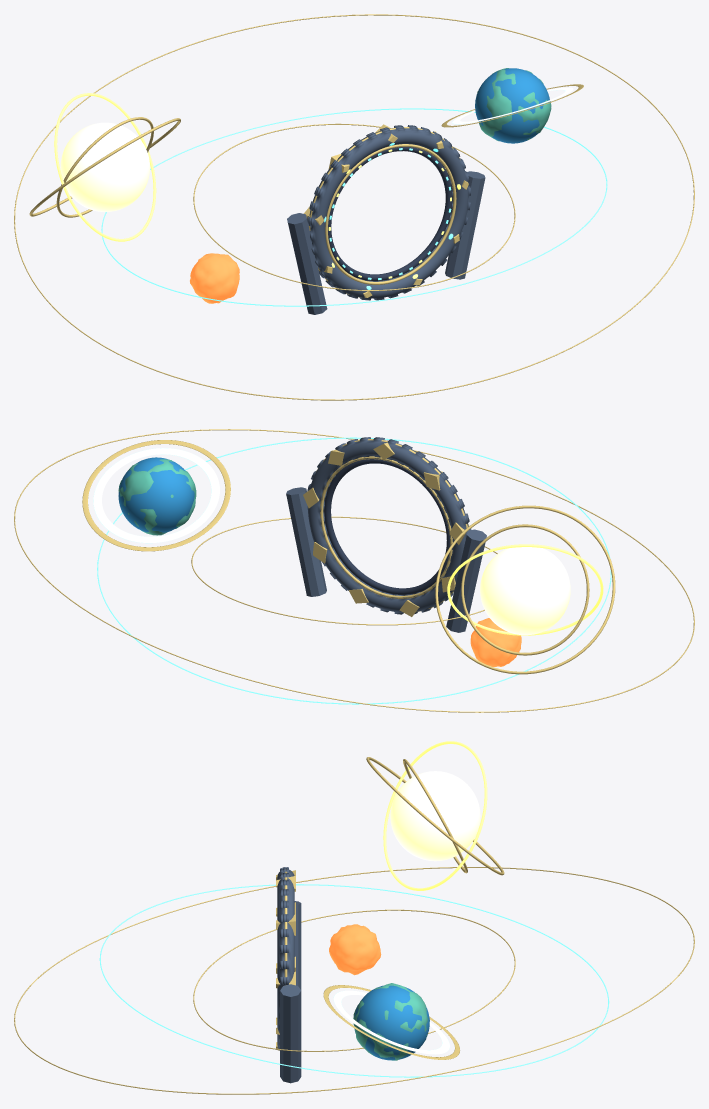
The model's file is stargate_odyssey.glb.
3 views of the same model, one above another, from view 1: azimuth 30°, elevation 25°; view 2: azimuth 150°, elevation 25°; view 3: azimuth 270°, elevation 25° (orthographic).
Visible parts, largest first — view 1: Stargate_OuterHull, Helios_Star_Core, Astrolabe_Ring_2, Planet_Thalassa, Stargate_InnerRing, Stargate_Gantry_0, Planet_Pyros, Planet_Thalassa_Continents, Astrolabe_Ring_1, Stargate_Gantry_1, Stargate_GoldTrim_1, Dyson_Ring_1 (+3 smaller); view 2: Stargate_OuterHull, Helios_Star_Core, Planet_Thalassa, Thalassa_Ring_0, Astrolabe_Ring_2, Stargate_InnerRing, Thalassa_Ring_1, Stargate_Gantry_1, Astrolabe_Ring_1, Dyson_Ring_2, Stargate_Gantry_0, Planet_Thalassa_Continents (+5 smaller); view 3: Helios_Star_Core, Planet_Thalassa, Astrolabe_Ring_2, Stargate_Gantry_1, Stargate_OuterHull, Planet_Pyros, Astrolabe_Ring_1, Planet_Thalassa_Continents, Dyson_Ring_1, Astrolabe_Ring_0, Thalassa_Ring_0, Dyson_Ring_2 (+2 smaller).
Boxes of the visible parts, x1,y1,x2,y2 form: Stargate_OuterHull: (307, 125, 470, 300); Helios_Star_Core: (60, 122, 149, 212); Astrolabe_Ring_2: (14, 14, 694, 400); Planet_Thalassa: (475, 68, 550, 143); Stargate_InnerRing: (328, 147, 452, 281); Stargate_Gantry_0: (287, 213, 327, 314); Planet_Pyros: (190, 253, 239, 303); Planet_Thalassa_Continents: (477, 68, 551, 141); Astrolabe_Ring_1: (101, 108, 607, 306); Stargate_Gantry_1: (445, 171, 485, 279); Stargate_GoldTrim_1: (325, 144, 456, 284); Dyson_Ring_1: (54, 93, 156, 241); Stargate_OuterHull: (307, 437, 471, 614); Helios_Star_Core: (480, 547, 570, 635); Planet_Thalassa: (118, 457, 194, 532); Thalassa_Ring_0: (93, 448, 219, 543); Astrolabe_Ring_2: (14, 429, 694, 712); Stargate_InnerRing: (324, 459, 450, 595); Thalassa_Ring_1: (82, 440, 230, 551); Stargate_Gantry_1: (286, 487, 326, 596); Astrolabe_Ring_1: (97, 437, 611, 704); Dyson_Ring_2: (435, 505, 615, 674); Stargate_Gantry_0: (446, 529, 486, 632); Planet_Thalassa_Continents: (118, 459, 196, 535); Helios_Star_Core: (390, 771, 480, 861); Planet_Thalassa: (354, 985, 429, 1060); Astrolabe_Ring_2: (14, 867, 694, 1094); Stargate_Gantry_1: (280, 984, 301, 1083); Stargate_OuterHull: (277, 867, 294, 1050); Planet_Pyros: (329, 924, 381, 975); Astrolabe_Ring_1: (99, 884, 609, 1077); Planet_Thalassa_Continents: (353, 983, 429, 1060); Dyson_Ring_1: (383, 741, 487, 890); Astrolabe_Ring_0: (193, 909, 515, 1051); Thalassa_Ring_0: (333, 990, 449, 1054); Dyson_Ring_2: (366, 757, 504, 875).
Bounding box in the file's own units: 21.88 × 6.7 × 21.88.
